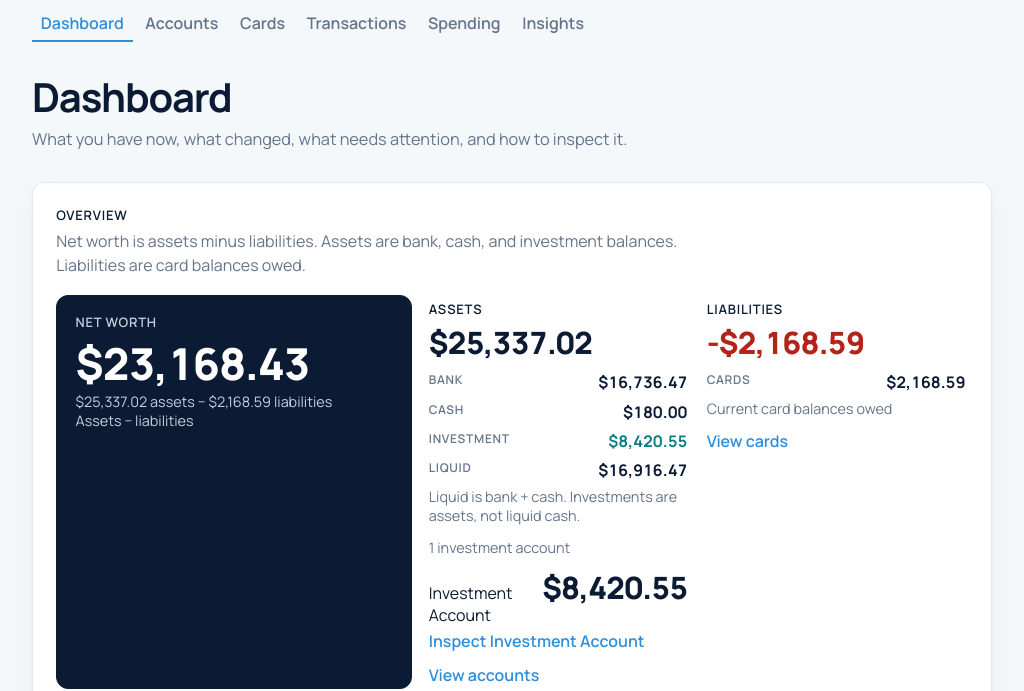
Scenario: Finora app navigation › opens a selected transaction from Insights net-worth evidence
The width and height of the screenshot is (1024, 691).
Click the button "Insights" at {"x": 553, "y": 23}, box [513, 5, 593, 42]
(page scrolled)
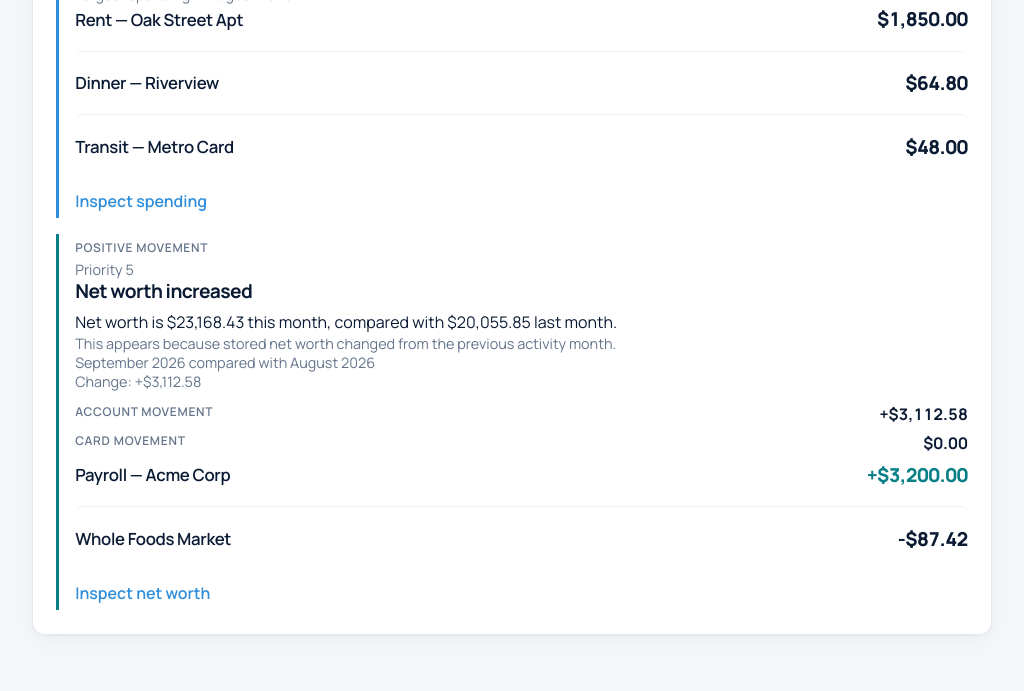
Click the button with aria-label "Inspect Payroll — Acme Corp" at {"x": 153, "y": 475}, box [75, 460, 968, 506]
(page scrolled)
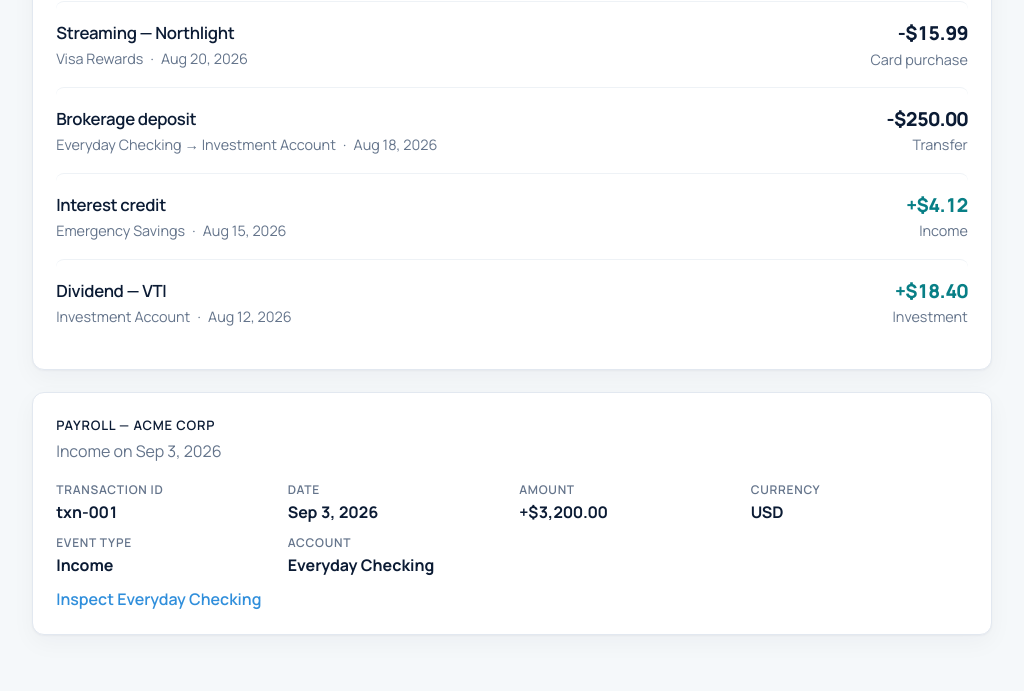
expect the text "Income" below "Event type" is shown: met, box [56, 554, 113, 576]
expect the text "Everyday Checking" is shown: met, box [288, 554, 434, 576]
